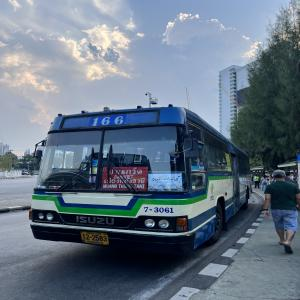BMTA-bus: (28, 105, 252, 256)
Bus Line Number: (88, 116, 127, 126)
Bus Side Number: (140, 205, 177, 217)
Destination Sign: (101, 165, 148, 191)
